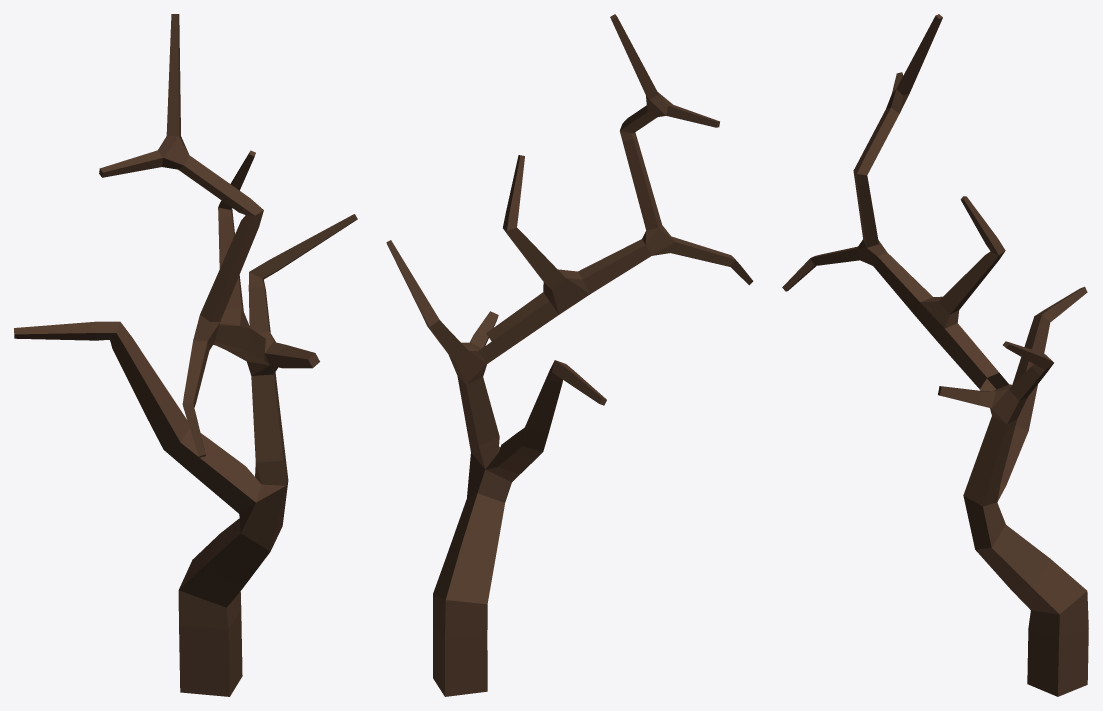
Rendered from dead_tree3.glb.
3 views of the same model, side by side, from view 1: azimuth 30°, elevation 25°; view 2: azimuth 150°, elevation 25°; view 3: azimuth 270°, elevation 25° (orthographic). The views are drawn at different scales.
Parts seen in each view (by area): view 1: Cube.006; view 2: Cube.006; view 3: Cube.006.
Part boxes in pixels (left/top/right/bottom): Cube.006: left=14, top=14, right=357, bottom=696; Cube.006: left=386, top=14, right=753, bottom=696; Cube.006: left=782, top=14, right=1088, bottom=696.
Size of the model in its own units: 2.87 by 6.42 by 2.85.
